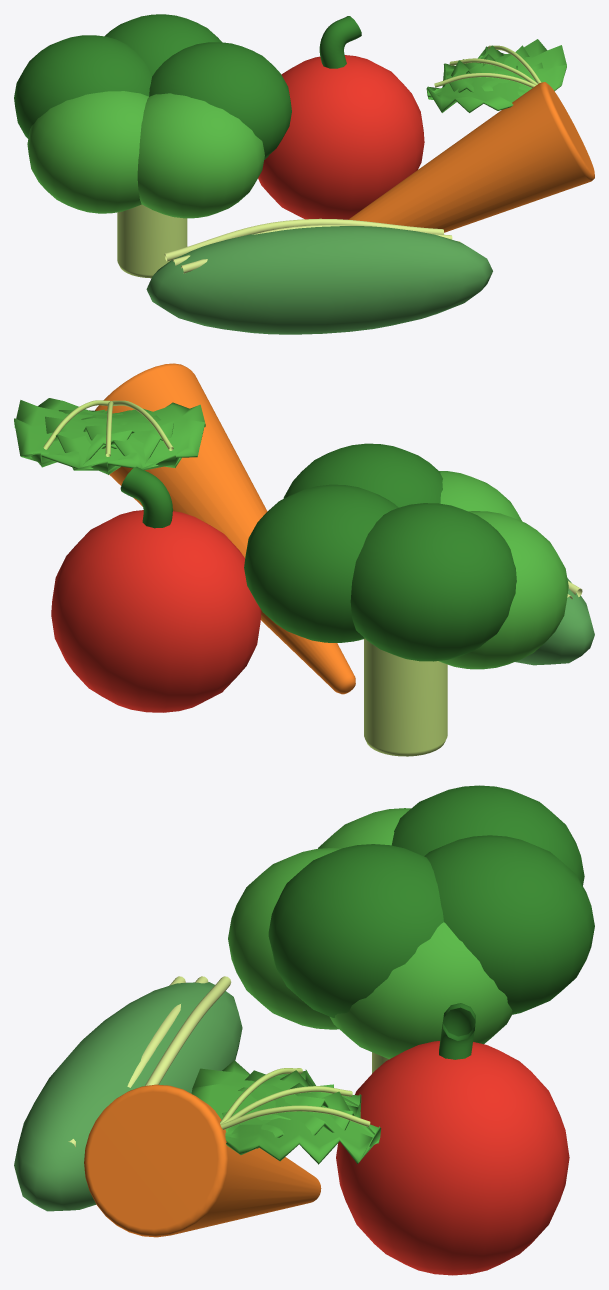
Rendered from seasonal-vegetables.glb.
3 views of the same model, one above another, from view 1: azimuth 30°, elevation 25°; view 2: azimuth 150°, elevation 25°; view 3: azimuth 270°, elevation 25° (orthographic). The views are drawn at different scales.
Parts seen in each view (by area): view 1: seasonal-vegetables_mesh; view 2: seasonal-vegetables_mesh; view 3: seasonal-vegetables_mesh.
Boxes of the visible parts, box(x1,y1,x2,y2) form: seasonal-vegetables_mesh: box(14, 14, 594, 334); seasonal-vegetables_mesh: box(14, 363, 594, 756); seasonal-vegetables_mesh: box(14, 785, 594, 1275).
Size of the model in its own units: 0.2972 by 0.1338 by 0.2238.
